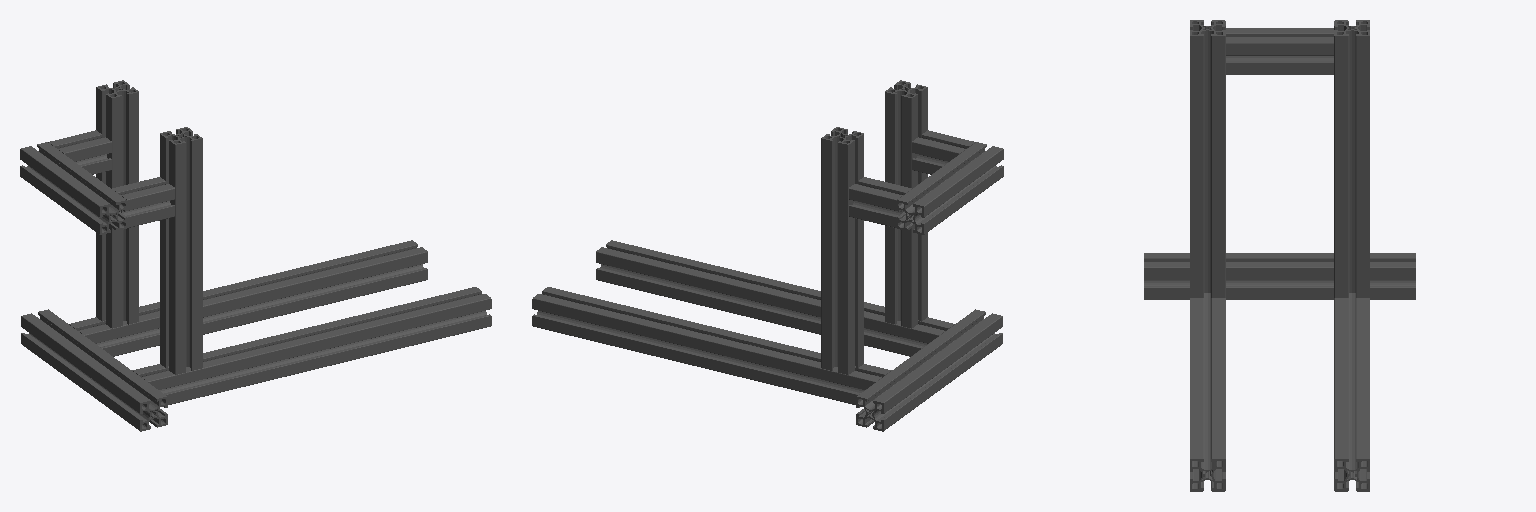
robot.urdf — g1_29dof_rev_1_0:
<?xml version="1.0" encoding="utf-8"?>
<robot name="g1_29dof_rev_1_0">
  <link name="base"/>
  <joint name="mid_base" type="fixed">
    <origin xyz="0 0 0.02" rpy="0 0 0"/>
    <parent link="base"/>
    <child link="mid_base"/>
  </joint>
  <link name="mid_base">
    <visual>
      <origin xyz="0 0 0" rpy="1.5708 0 0"/>
      <geometry>
        <!-- <box size="0.04, 0.3, 0.04"/> -->
        <mesh filename="meshes/alum_profile.obj" scale="1 1 0.3"/>
      </geometry>
      <material name="dark">
        <color rgba="0.4 0.4 0.4 1"/>
      </material>
    </visual>
    <collision>
      <origin xyz="0 0 0" rpy="0 0 0"/>
      <geometry>
        <box size="0.04, 0.3, 0.04"/>
      </geometry>
    </collision>
  </link>
  <joint name="base_mid_left" type="fixed">
    <origin xyz="0.27 0.08 0" rpy="0 0 0"/>
    <parent link="mid_base"/>
    <child link="left_base"/>
  </joint>
  <link name="left_base">
    <visual>
      <origin xyz="0 0 0" rpy="0 1.5708 0"/>
      <geometry>
        <!-- <box size="0.5, 0.04, 0.04"/> -->
        <mesh filename="meshes/alum_profile.obj" scale="1 1 0.5"/>
      </geometry>
      <material name="dark">
        <color rgba="0.4 0.4 0.4 1"/>
      </material>
    </visual>
    <collision>
      <origin xyz="0 0 0" rpy="0 0 0"/>
      <geometry>
        <box size="0.5, 0.04, 0.04"/>
      </geometry>
    </collision>
  </link>
  <joint name="left_base_column" type="fixed">
    <origin xyz="-0.19 0 0.18" rpy="0 0 0"/>
    <parent link="left_base"/>
    <child link="left_column"/>
  </joint>
  <link name="left_column">
    <visual>
      <origin xyz="0 0 0" rpy="0 0 0"/>
      <geometry>
        <!-- <box size="0.04, 0.04, 0.32"/> -->
        <mesh filename="meshes/alum_profile.obj" scale="1 1 0.32"/>
      </geometry>
      <material name="dark">
        <color rgba="0.4 0.4 0.4 1"/>
      </material>
    </visual>
    <collision>
      <origin xyz="0 0 0" rpy="0 0 0"/>
      <geometry>
        <box size="0.04, 0.04, 0.32"/>
      </geometry>
    </collision>
  </link>
  <joint name="left_column_rack" type="fixed">
    <origin xyz="-0.055 0 0.08" rpy="0 0 0"/>
    <parent link="left_column"/>
    <child link="left_rack"/>
  </joint>
  <link name="left_rack">
    <visual>
      <origin xyz="0 0 0" rpy="0 1.5708 0"/>
      <geometry>
        <!-- <box size="0.07, 0.04, 0.04"/> -->
        <mesh filename="meshes/alum_profile.obj" scale="1 1 0.07"/>
      </geometry>
      <material name="dark">
        <color rgba="0.4 0.4 0.4 1"/>
      </material>
    </visual>
    <collision>
      <origin xyz="0 0 0" rpy="0 0 0"/>
      <geometry>
        <box size="0.07, 0.04, 0.04"/>
      </geometry>
    </collision>
  </link>
  <joint name="base_mid_right" type="fixed">
    <origin xyz="0.27 -0.08 0" rpy="0 0 0"/>
    <parent link="mid_base"/>
    <child link="right_base"/>
  </joint>
  <link name="right_base">
    <visual>
      <origin xyz="0 0 0" rpy="0 1.5708 0"/>
      <geometry>
        <!-- <box size="0.5, 0.04, 0.04"/> -->
        <mesh filename="meshes/alum_profile.obj" scale="1 1 0.5"/>
      </geometry>
      <material name="dark">
        <color rgba="0.4 0.4 0.4 1"/>
      </material>
    </visual>
    <collision>
      <origin xyz="0 0 0" rpy="0 0 0"/>
      <geometry>
        <box size="0.5, 0.04, 0.04"/>
      </geometry>
    </collision>
  </link>
  <joint name="right_base_column" type="fixed">
    <origin xyz="-0.19 0 0.18" rpy="0 0 0"/>
    <parent link="right_base"/>
    <child link="right_column"/>
  </joint>
  <link name="right_column">
    <visual>
      <origin xyz="0 0 0" rpy="0 0 0"/>
      <geometry>
        <!-- <box size="0.04, 0.04, 0.32"/> -->
        <mesh filename="meshes/alum_profile.obj" scale="1 1 0.32"/>
      </geometry>
      <material name="dark">
        <color rgba="0.4 0.4 0.4 1"/>
      </material>
    </visual>
    <collision>
      <origin xyz="0 0 0" rpy="0 0 0"/>
      <geometry>
        <box size="0.04, 0.04, 0.32"/>
      </geometry>
    </collision>
  </link>
  <joint name="right_column_rack" type="fixed">
    <origin xyz="-0.055 0 0.08" rpy="0 0 0"/>
    <parent link="right_column"/>
    <child link="right_rack"/>
  </joint>
  <link name="right_rack">
    <visual>
      <origin xyz="0 0 0" rpy="0 1.5708 0"/>
      <geometry>
        <!-- <box size="0.07, 0.04, 0.04"/> -->
        <mesh filename="meshes/alum_profile.obj" scale="1 1 0.07"/>
      </geometry>
      <material name="dark">
        <color rgba="0.4 0.4 0.4 1"/>
      </material>
    </visual>
    <collision>
      <origin xyz="0 0 0" rpy="0 0 0"/>
      <geometry>
        <box size="0.07, 0.04, 0.04"/>
      </geometry>
    </collision>
  </link>
  <joint name="mid_base_rack" type="fixed">
    <origin xyz="-0.03 0 0.26" rpy="0 0 0"/>
    <parent link="mid_base"/>
    <child link="mid_rack"/>
  </joint>
  <link name="mid_rack">
    <visual>
      <origin xyz="0 0 0" rpy="1.5708 0 0"/>
      <geometry>
        <!-- <box size="0.04, 0.2, 0.04"/> -->
        <mesh filename="meshes/alum_profile.obj" scale="1 1 0.2"/>
      </geometry>
      <material name="dark">
        <color rgba="0.4 0.4 0.4 1"/>
      </material>
    </visual>
    <collision>
      <origin xyz="0 0 0" rpy="0 0 0"/>
      <geometry>
        <box size="0.04, 0.2, 0.04"/>
      </geometry>
    </collision>
  </link>
</robot>

--- Render facts (derived) ---
The picture shows the robot from 3 angles, left to right: view 1: azimuth 30°, elevation 25°; view 2: azimuth 150°, elevation 25°; view 3: azimuth 270°, elevation 25°; orthographic projection.
Model g1_29dof_rev_1_0 with 9 links and 8 joints (8 fixed), rooted at base, posed every joint at zero.
Visible links, largest first — view 1: right_base, left_base, right_column, left_column, mid_base, mid_rack, right_rack, left_rack; view 2: left_base, right_base, left_column, right_column, mid_base, mid_rack, left_rack, right_rack; view 3: left_column, right_column, mid_base, left_base, right_base, mid_rack.
Link boxes in pixels (x1,y1,x2,y2): right_base: (132,287,491,404); left_base: (69,240,427,356); right_column: (160,127,202,374); left_column: (96,80,138,328); mid_base: (21,309,167,431); mid_rack: (20,142,126,234); right_rack: (112,177,174,227); left_rack: (48,130,111,174); left_base: (532,287,891,404); right_base: (596,240,954,356); left_column: (821,127,863,374); right_column: (885,80,927,328); mid_base: (856,309,1002,431); mid_rack: (897,142,1003,234); left_rack: (849,177,911,227); right_rack: (912,130,975,174); left_column: (1334,20,1369,297); right_column: (1190,20,1225,297); mid_base: (1144,253,1415,299); left_base: (1334,293,1369,491); right_base: (1190,293,1225,491); mid_rack: (1226,28,1333,74).
Size in the robot's own frame: 0.57 by 0.3 by 0.36 metres.
8 mesh visuals loaded from 1 distinct referenced files (1 OBJ).
